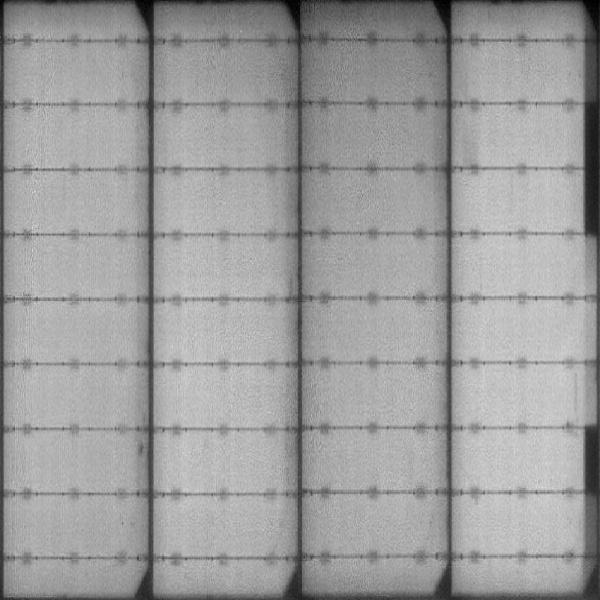black_border: (580, 22, 600, 249), (579, 413, 600, 564)
